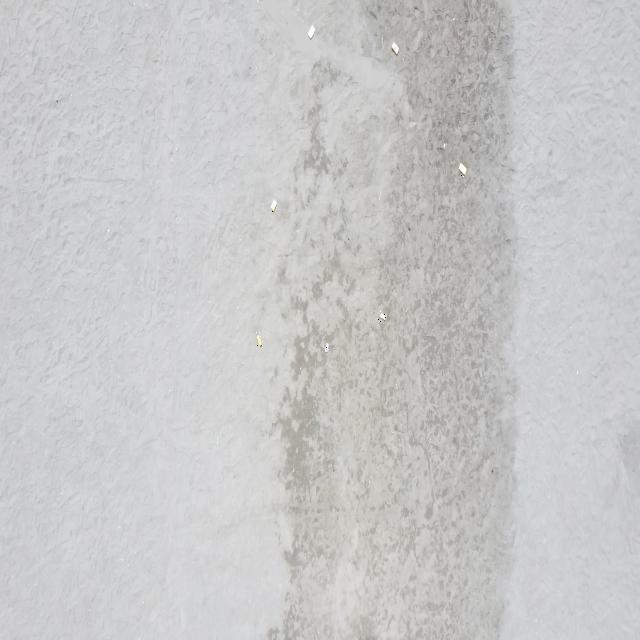Garbage: (307, 24, 315, 39), (457, 163, 466, 176), (377, 311, 386, 322), (256, 333, 263, 347), (391, 41, 397, 55), (439, 141, 446, 150), (271, 200, 276, 212), (324, 343, 328, 352)
